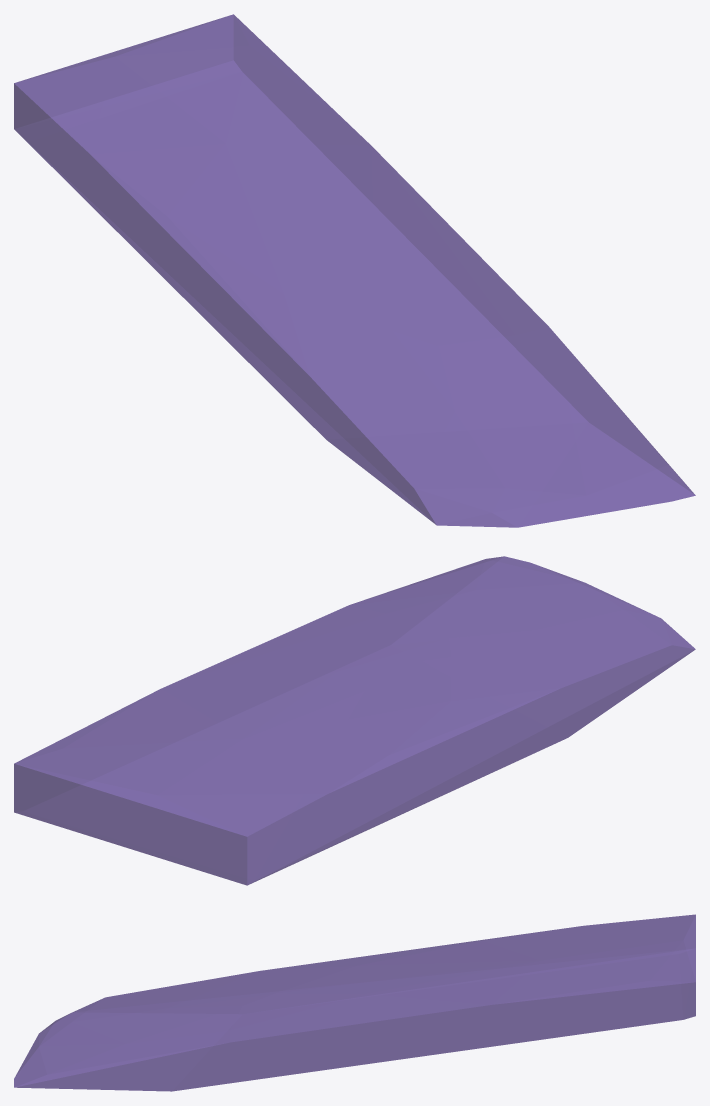
3 renders of one model, top to bottom at view 1: azimuth 30°, elevation 25°; view 2: azimuth 150°, elevation 25°; view 3: azimuth 270°, elevation 25°, orthographic. The views are drawn at different scales.
Visible parts, largest first — view 1: Shape_IndexedFaceSet.012_Shape_IndexedFaceSet.7618; view 2: Shape_IndexedFaceSet.012_Shape_IndexedFaceSet.7618; view 3: Shape_IndexedFaceSet.012_Shape_IndexedFaceSet.7618.
Boxes of the visible parts, bbox=[...] form: Shape_IndexedFaceSet.012_Shape_IndexedFaceSet.7618: bbox=[14, 14, 695, 527]; Shape_IndexedFaceSet.012_Shape_IndexedFaceSet.7618: bbox=[14, 556, 695, 885]; Shape_IndexedFaceSet.012_Shape_IndexedFaceSet.7618: bbox=[14, 914, 695, 1091].
Size of the model in its own units: 0.092 by 0.0593 by 0.3353.
